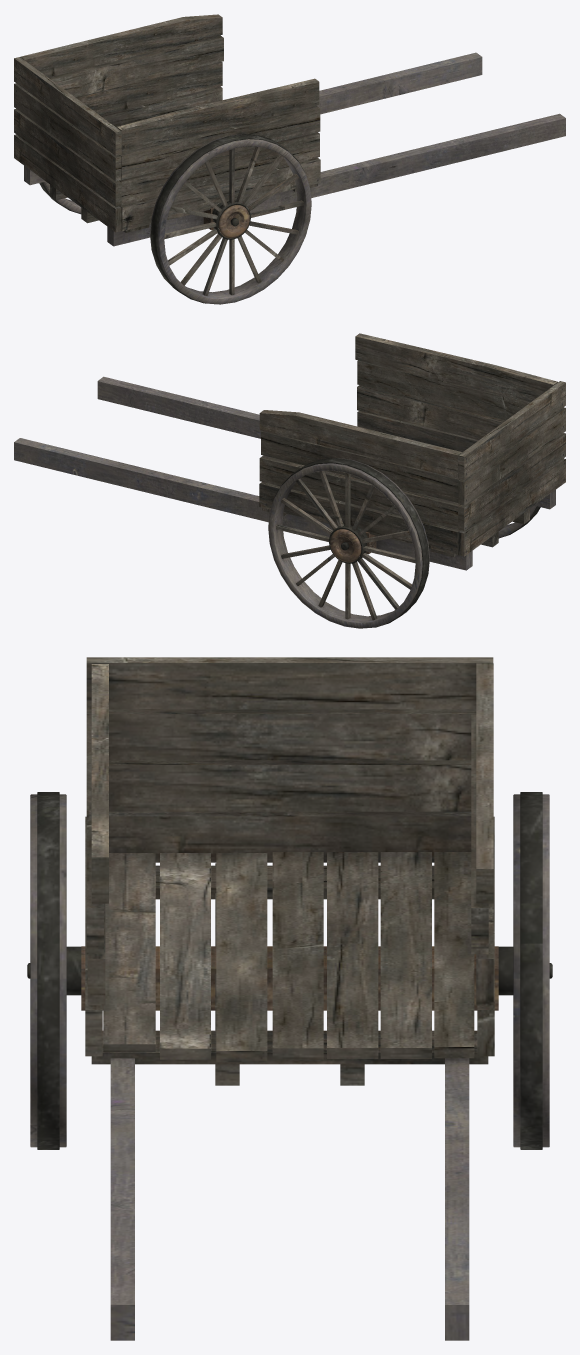
File: vh_cart.glb
3 renders of one model, top to bottom at view 1: azimuth 30°, elevation 25°; view 2: azimuth 150°, elevation 25°; view 3: azimuth 270°, elevation 25°, orthographic. The views are drawn at different scales.
Visible parts, largest first — view 1: cart; view 2: cart; view 3: cart.
Boxes of the visible parts, x1,y1,x2,y2 form: cart: [14, 14, 565, 304]; cart: [14, 333, 565, 628]; cart: [27, 657, 552, 1340].
Size of the model in its own units: 3.34 by 1.31 by 1.67.
Materials: 1 (1 with a texture image).
